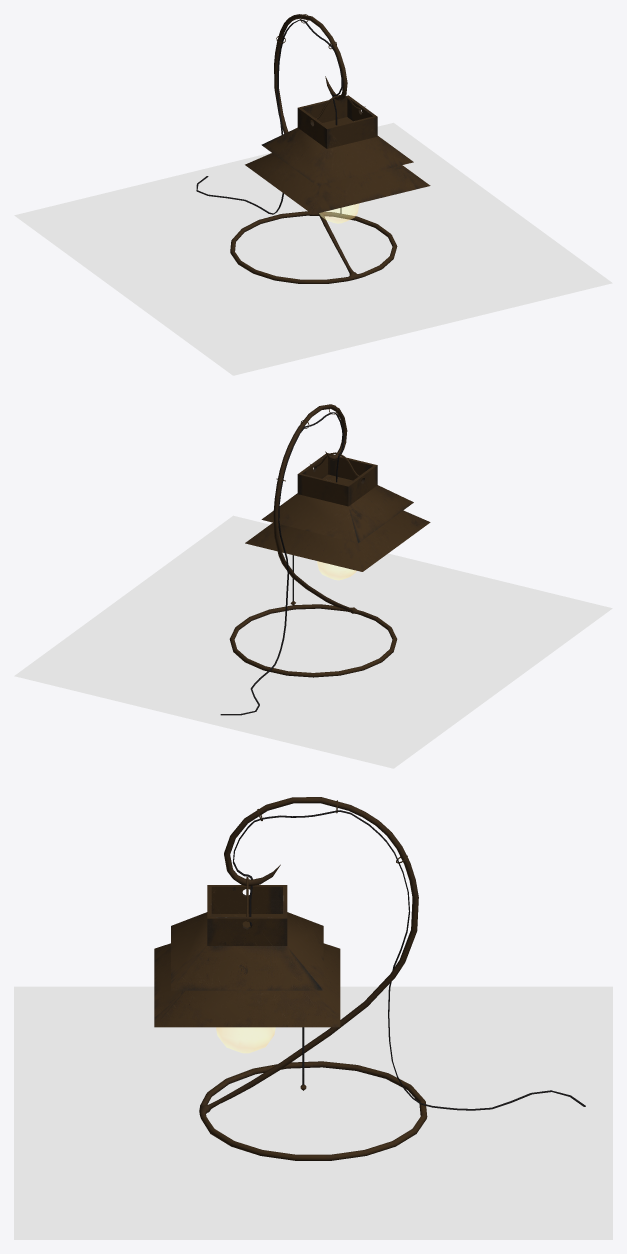
File: old_desk_lamp.glb
3 renders of one model, top to bottom at view 1: azimuth 30°, elevation 25°; view 2: azimuth 150°, elevation 25°; view 3: azimuth 270°, elevation 25°, orthographic. The views are drawn at different scales.
Visible parts, largest first — view 1: pPlane1, polySurface93; view 2: pPlane1, polySurface93; view 3: pPlane1, polySurface93.
Part boxes in pixels (x1,y1,x2,y2): pPlane1: [14, 122, 612, 375]; polySurface93: [196, 14, 430, 283]; pPlane1: [14, 515, 612, 768]; polySurface93: [220, 404, 430, 715]; pPlane1: [14, 986, 612, 1239]; polySurface93: [154, 797, 585, 1160].
Bounding box in the file's own units: 47.41 × 27.61 × 47.41.
Materials: 3 (3 with a texture image).
